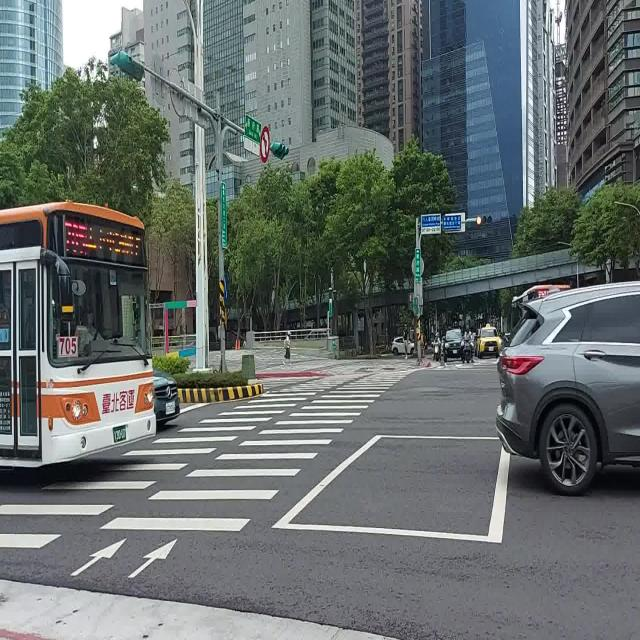bus: (0, 202, 159, 466)
car: (496, 282, 640, 496), (476, 327, 501, 358), (445, 329, 462, 358), (391, 336, 415, 356)
crosswalk: (0, 372, 372, 550), (94, 370, 414, 534)
motocycle: (461, 333, 472, 362), (434, 338, 440, 361)
